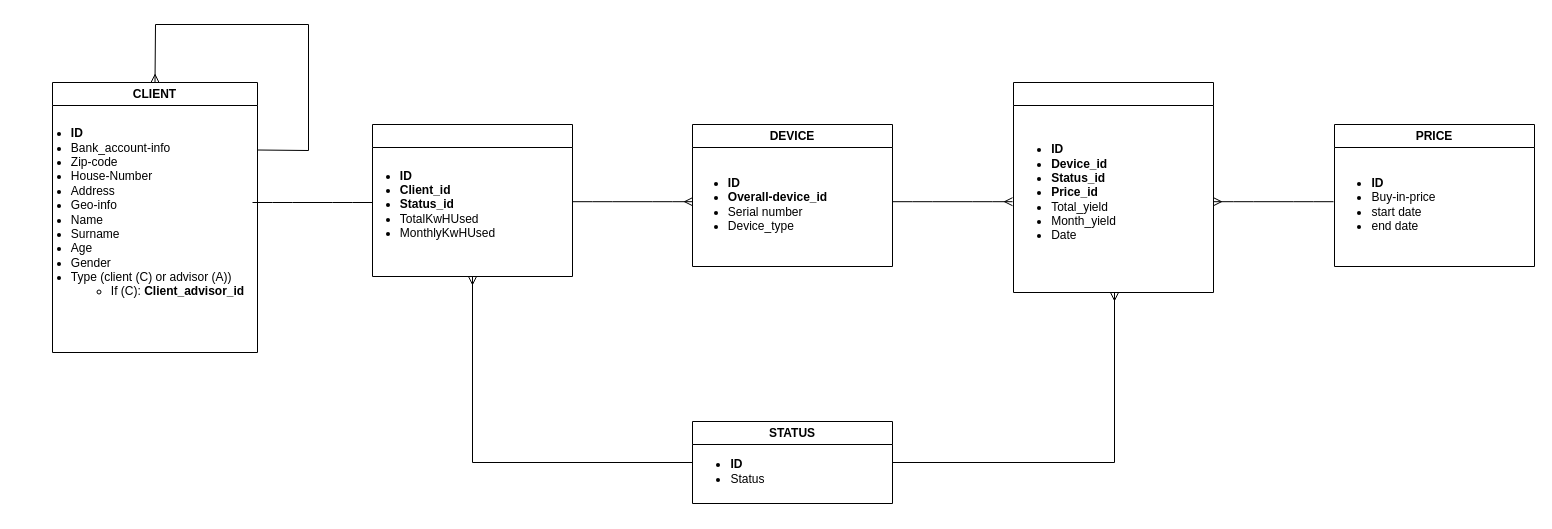
This 1552x529 diagram has some shape labels left out. The shapes that lost their labels are listed below. From the top down, each one's box as (x1, y1, x2, y2) in pixels, then its label:
(372, 124, 572, 276): OVERALL-DEVICE
(1012, 82, 1214, 292): DEVICE-METRICS
